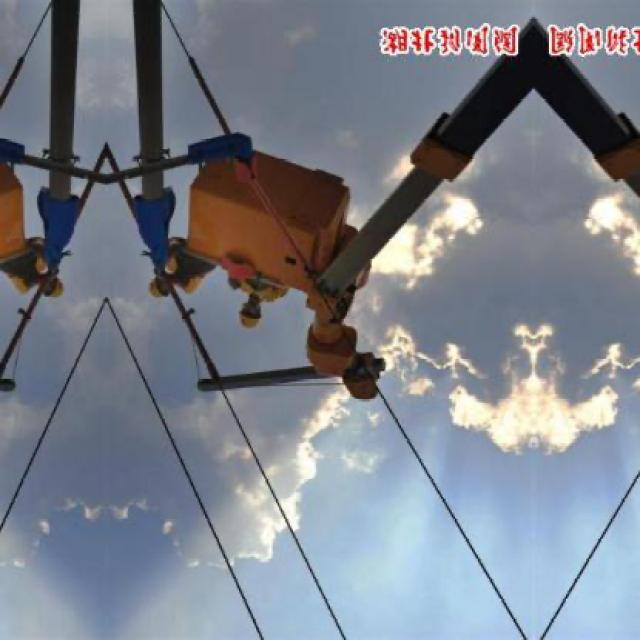con casco: (230, 282, 299, 340)
